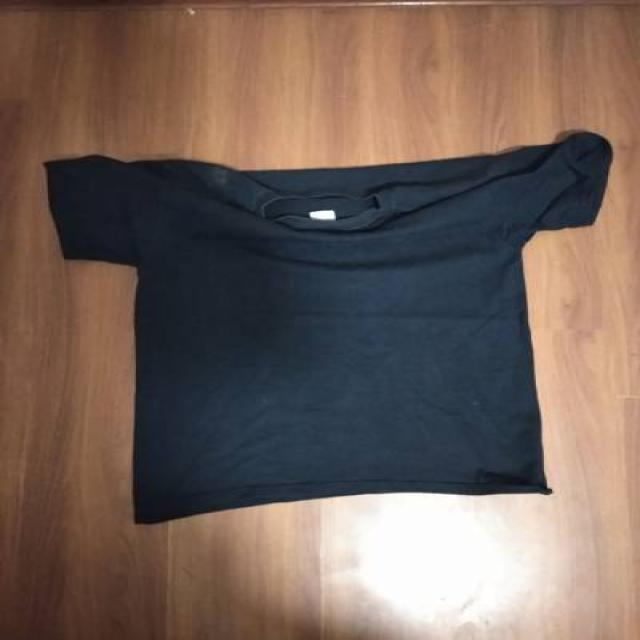non-organik: (29, 119, 619, 540)
